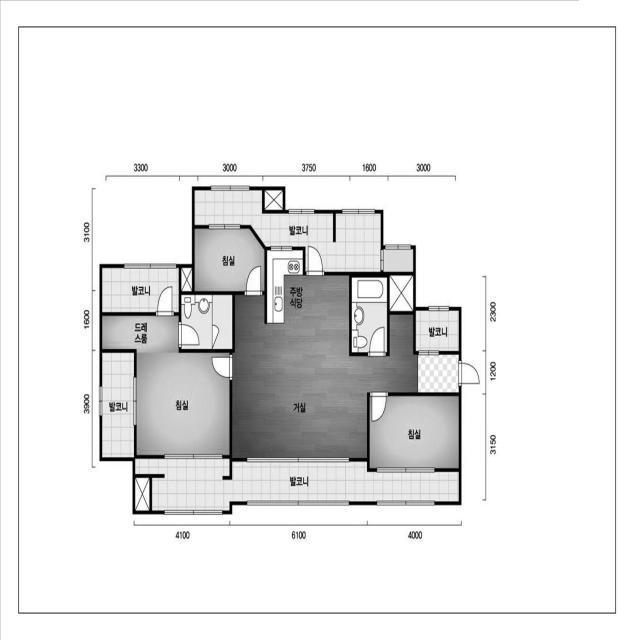space_balconi: (135, 459, 459, 511), (194, 190, 381, 272), (102, 268, 179, 312), (102, 353, 134, 457), (416, 311, 459, 351)
space_bedroom: (136, 353, 229, 455), (370, 397, 458, 468), (194, 229, 264, 291)
space_dressroom: (102, 316, 179, 353)
space_front: (413, 355, 459, 393)
space_kitchen: (267, 250, 303, 324)
space_living_room: (232, 275, 414, 458)
space_other: (389, 276, 413, 311), (383, 249, 413, 272), (135, 478, 150, 511), (265, 190, 283, 210), (181, 268, 192, 291)
space_toilet: (181, 295, 232, 349), (352, 277, 387, 353)
